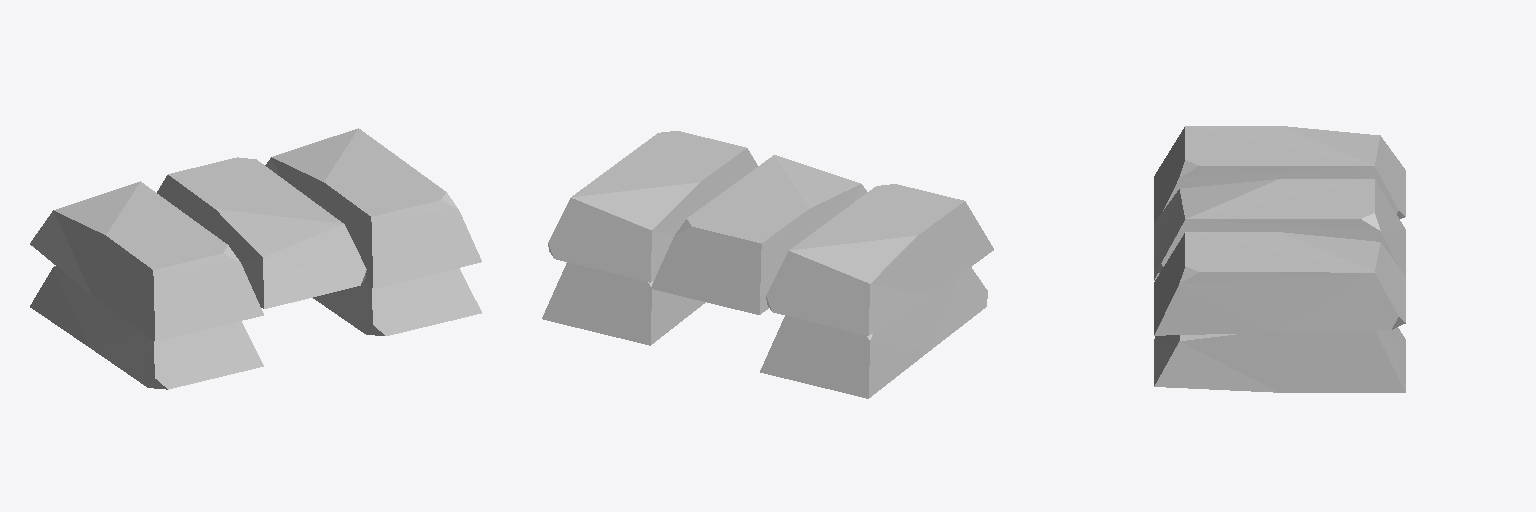
File: Gold-12.obj
3 renders of one model, left to right at view 1: azimuth 30°, elevation 25°; view 2: azimuth 150°, elevation 25°; view 3: azimuth 270°, elevation 25°, orthographic.
Visible parts, largest first — view 1: Gold_12; view 2: Gold_12; view 3: Gold_12.
Boxes of the visible parts, box(x1,y1,x2,y2) form: Gold_12: box(30, 128, 481, 389); Gold_12: box(542, 131, 993, 398); Gold_12: box(1154, 126, 1405, 392).
Bounding box in the file's own units: 0.225 × 0.075 × 0.15.